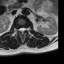CCS_normal: (21, 25, 23, 36)
LFS_normal: (25, 26, 27, 32)
LLS_normal: (23, 26, 25, 31)
RFS_normal: (16, 26, 19, 32)
RLS_normal: (19, 26, 21, 33)
